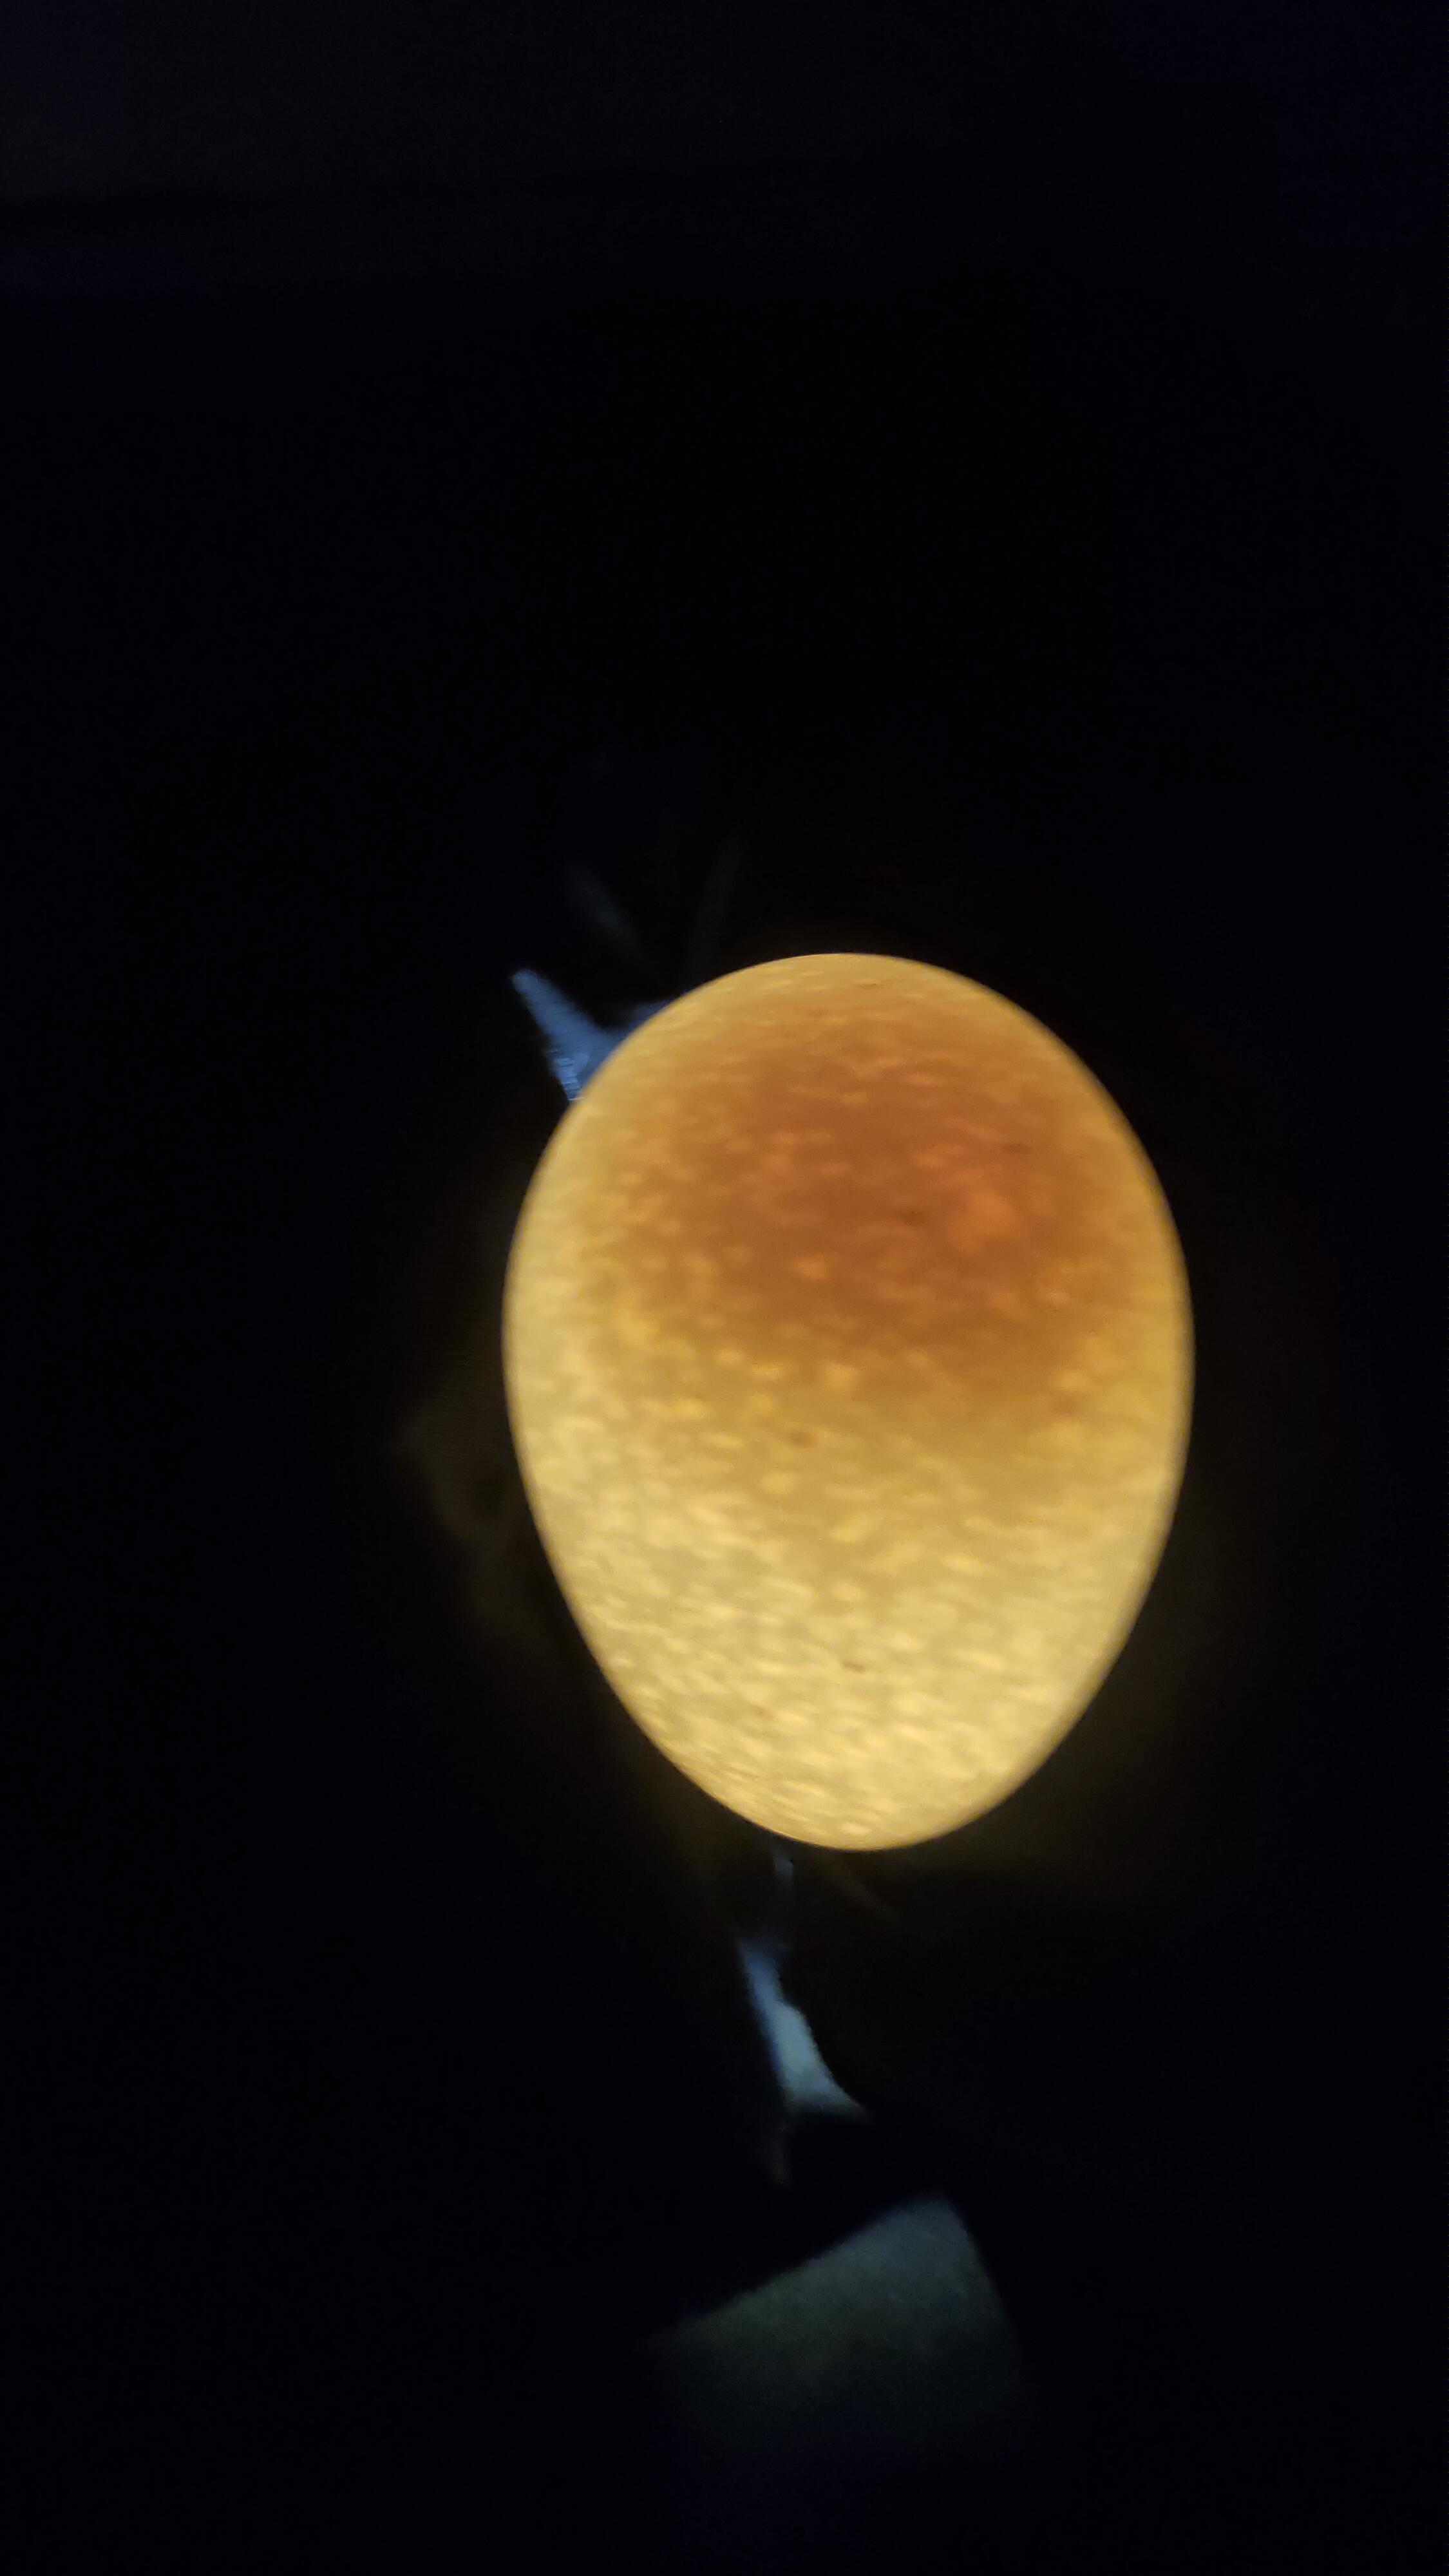Inedible: (527, 966, 1150, 1789)
